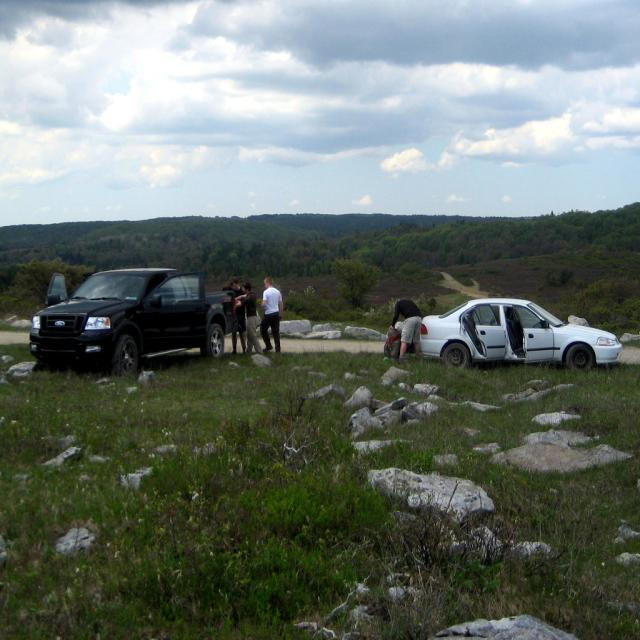car: (417, 296, 619, 371)
